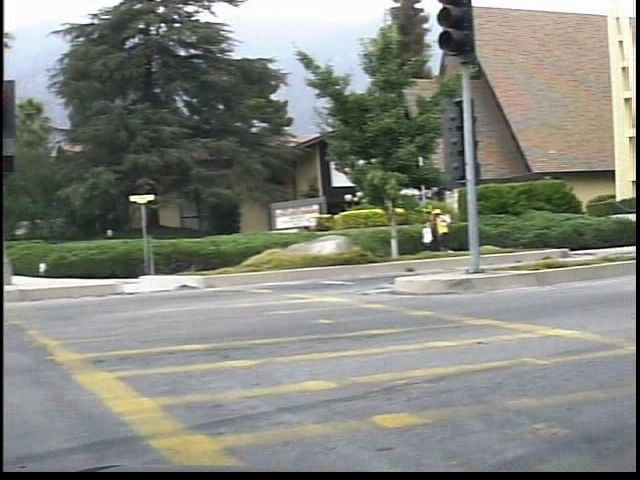person: (440, 200, 465, 255)
